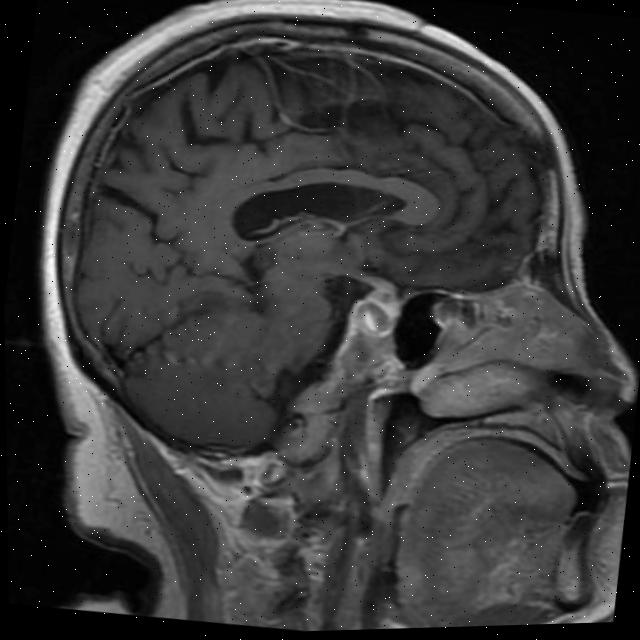Pituitary: (351, 298, 396, 338)
